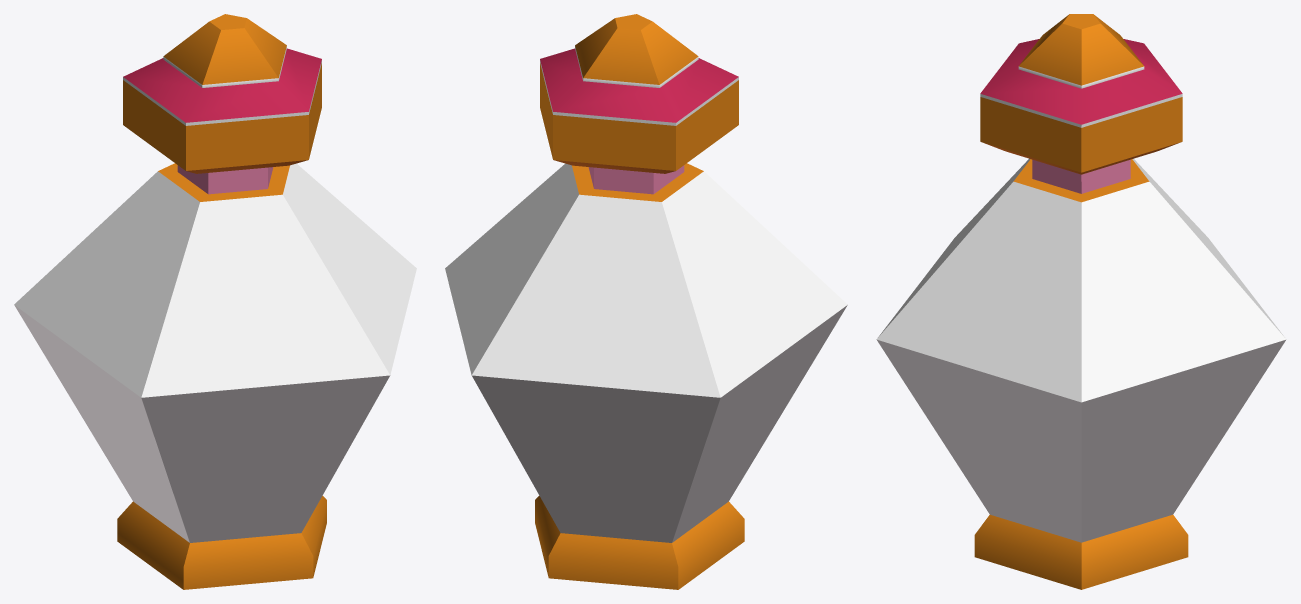
Rendered from Hyangsu.fbx.
The picture shows the model from 3 angles, left to right: view 1: azimuth 30°, elevation 25°; view 2: azimuth 150°, elevation 25°; view 3: azimuth 270°, elevation 25°; orthographic projection.
Visible parts, largest first — view 1: Hyangsu; view 2: Hyangsu; view 3: Hyangsu.
Part boxes in pixels (x1,y1,x2,y2): Hyangsu: (14,14,416,589); Hyangsu: (445,14,847,589); Hyangsu: (876,14,1286,589).
Bounding box in the file's own units: 0.1279 × 0.1888 × 0.1345.
